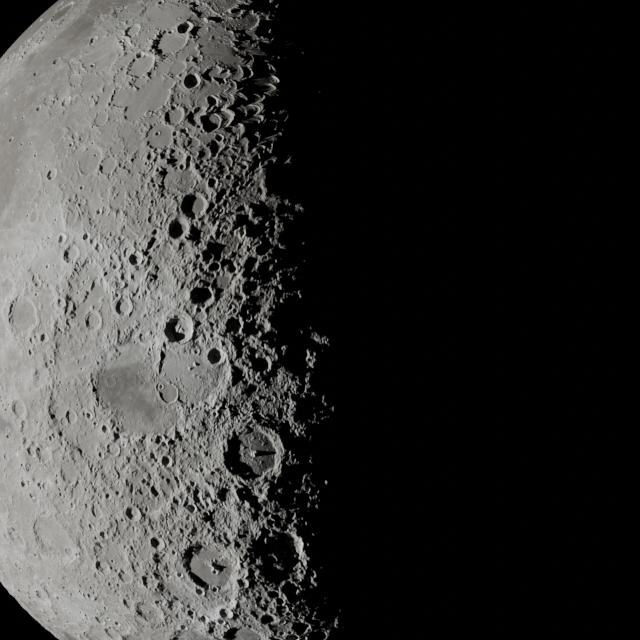crater: (31, 511, 79, 559), (190, 544, 238, 588), (151, 238, 186, 274), (8, 296, 40, 335), (156, 25, 191, 56), (164, 314, 193, 344), (126, 52, 157, 79), (81, 284, 107, 312), (148, 124, 174, 150), (137, 601, 164, 626), (78, 152, 103, 176), (212, 106, 236, 130), (186, 192, 208, 218), (200, 111, 224, 134), (189, 286, 214, 308), (158, 474, 180, 498), (158, 381, 179, 403), (250, 354, 272, 375), (114, 296, 134, 318), (168, 218, 188, 240), (60, 461, 79, 484), (166, 105, 186, 126), (206, 346, 225, 366), (254, 238, 273, 258), (204, 66, 225, 84), (216, 271, 235, 290), (84, 310, 102, 330), (182, 72, 202, 90), (180, 168, 198, 188), (224, 316, 242, 336), (100, 155, 118, 175), (228, 122, 246, 141), (11, 399, 27, 420), (37, 445, 54, 464), (64, 244, 80, 264), (234, 64, 252, 81), (94, 109, 110, 128), (126, 506, 143, 523), (150, 536, 166, 553), (68, 72, 85, 88), (118, 569, 134, 585), (198, 144, 214, 160), (192, 307, 208, 323), (216, 486, 231, 503), (206, 94, 220, 110), (104, 373, 118, 388), (177, 21, 193, 34), (30, 273, 43, 288), (65, 410, 78, 424), (129, 252, 142, 266), (160, 454, 173, 468), (212, 132, 226, 145), (54, 296, 66, 311), (90, 503, 101, 519), (108, 442, 120, 456), (46, 167, 58, 181), (149, 484, 161, 498), (260, 614, 273, 625), (27, 446, 38, 458), (207, 177, 218, 189), (176, 160, 188, 171), (34, 447, 43, 461), (61, 96, 72, 107), (83, 409, 93, 421), (94, 560, 104, 572), (218, 608, 230, 618), (57, 233, 67, 245), (140, 576, 150, 588), (186, 503, 196, 514), (195, 585, 205, 596), (113, 488, 123, 498), (94, 242, 103, 252), (100, 424, 108, 434), (96, 449, 104, 459), (122, 598, 130, 608), (82, 232, 90, 241), (89, 36, 97, 45), (20, 479, 27, 488), (95, 208, 103, 215), (7, 136, 14, 143), (35, 105, 41, 112)
rock: (304, 349, 318, 368), (283, 155, 293, 165), (320, 395, 328, 406)
